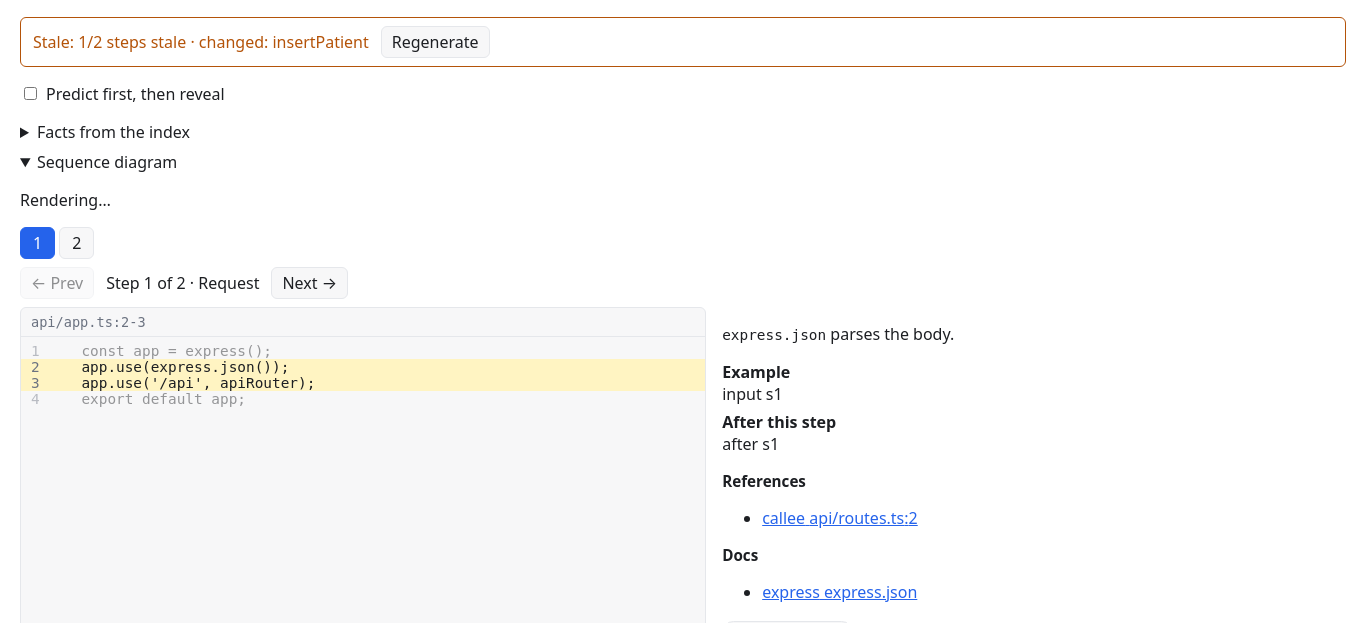
Test: walkthrough reader › moves between steps with the buttons and the arrow keys, and marks stale steps
(page scrolled)
expect the text "Step 1 of 2 · Request" is shown: met, box [106,272,259,294]
Click the button "Next →": (310,283) [271,267,348,299]
(page scrolled)
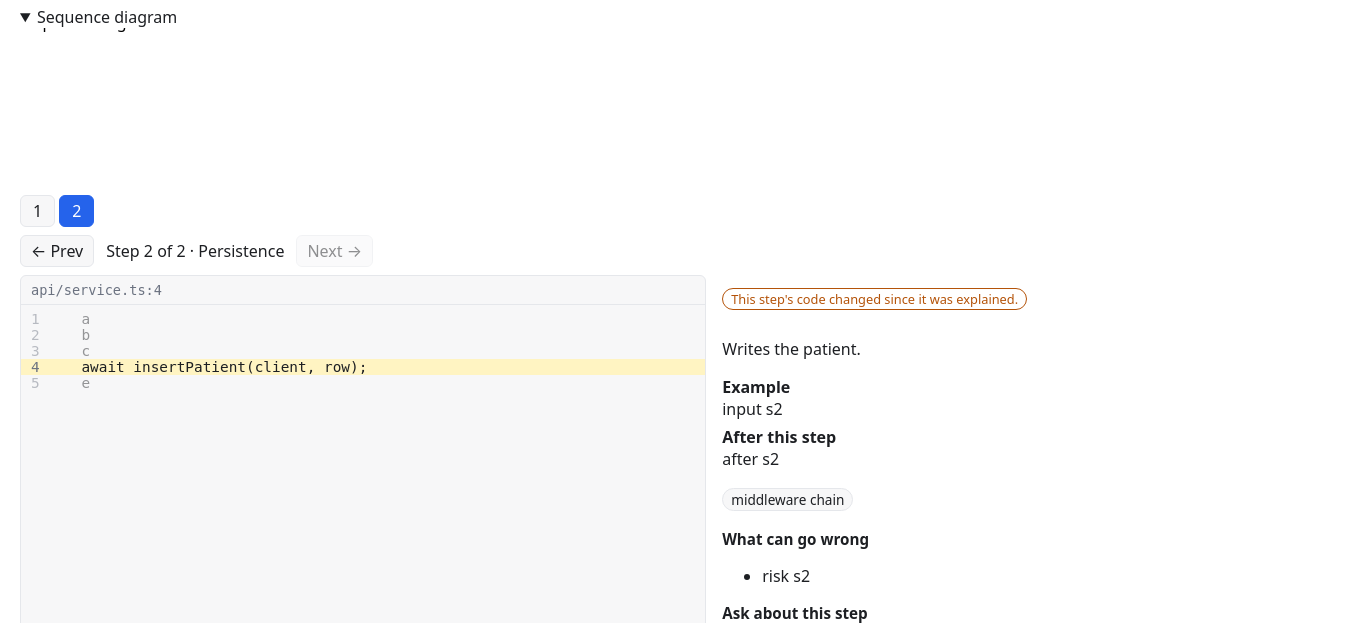
expect the text "Step 2 of 2 · Persistence" is shown: met, box [106,240,284,262]
expect the text "This step's code changed since it was explained." is shown: met, box [722,288,1027,310]
Press ArrowLeft
(page scrolled)
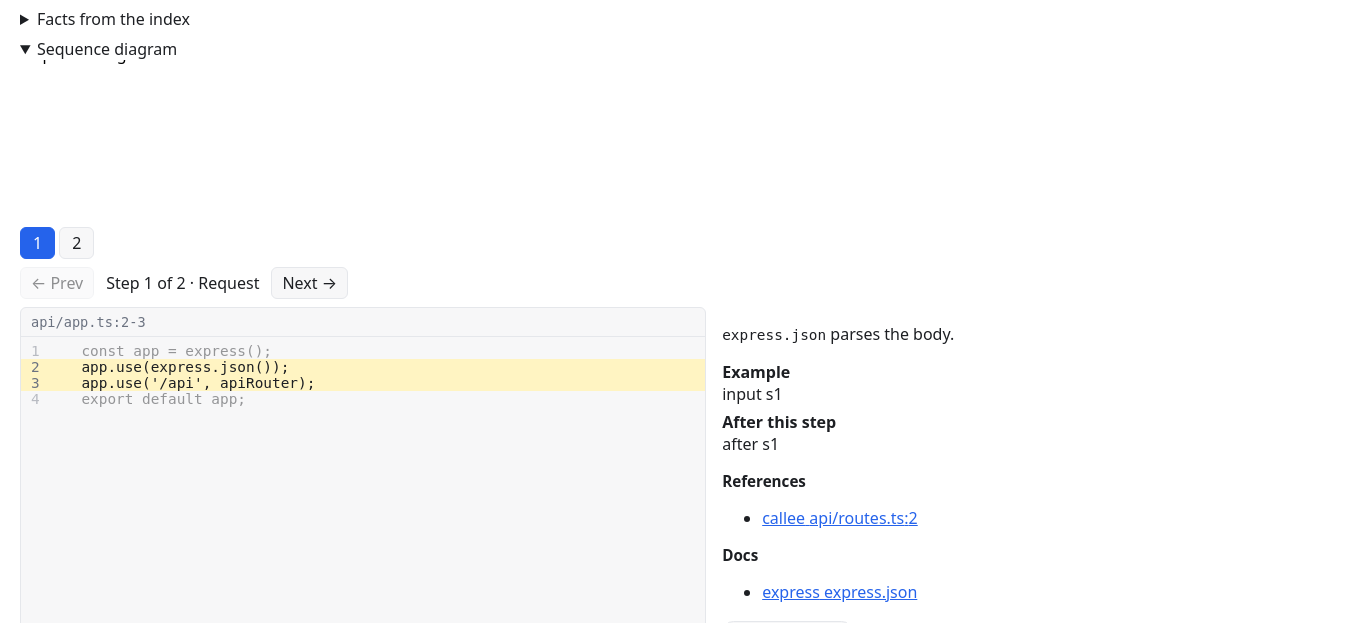
expect the text "Step 1 of 2 · Request" is shown: met, box [106,272,259,294]
Click the button "2": (77,243) [59,227,94,259]
(page scrolled)
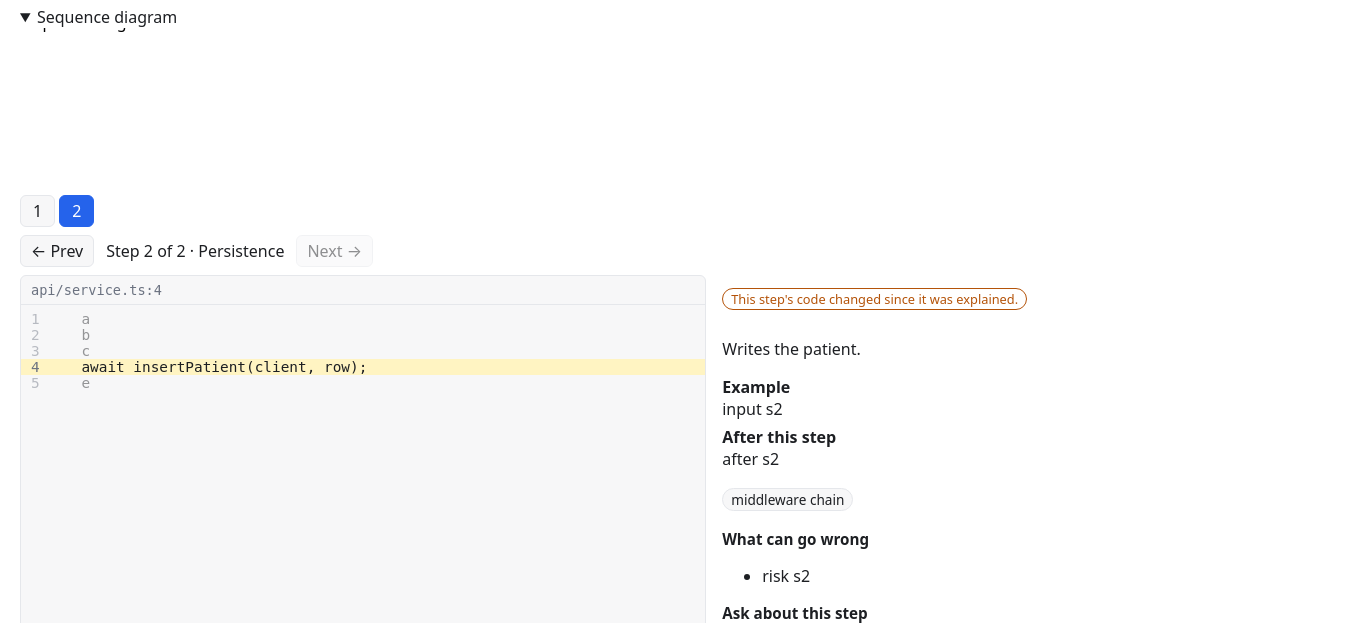
expect the text "Step 2 of 2 · Persistence" is shown: met, box [106,240,284,262]
